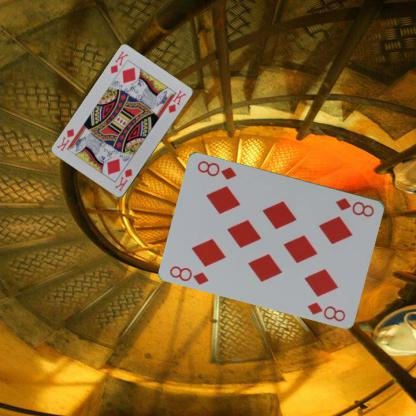8d: (167, 263, 211, 286), (334, 195, 376, 218)
Kd: (107, 49, 130, 75), (112, 166, 134, 192)
